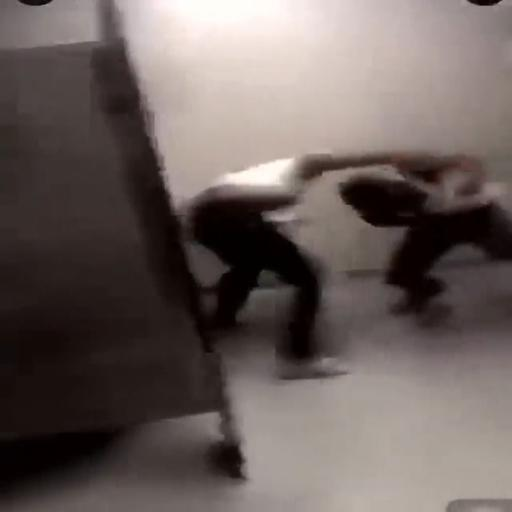violencia: (171, 127, 511, 380)
